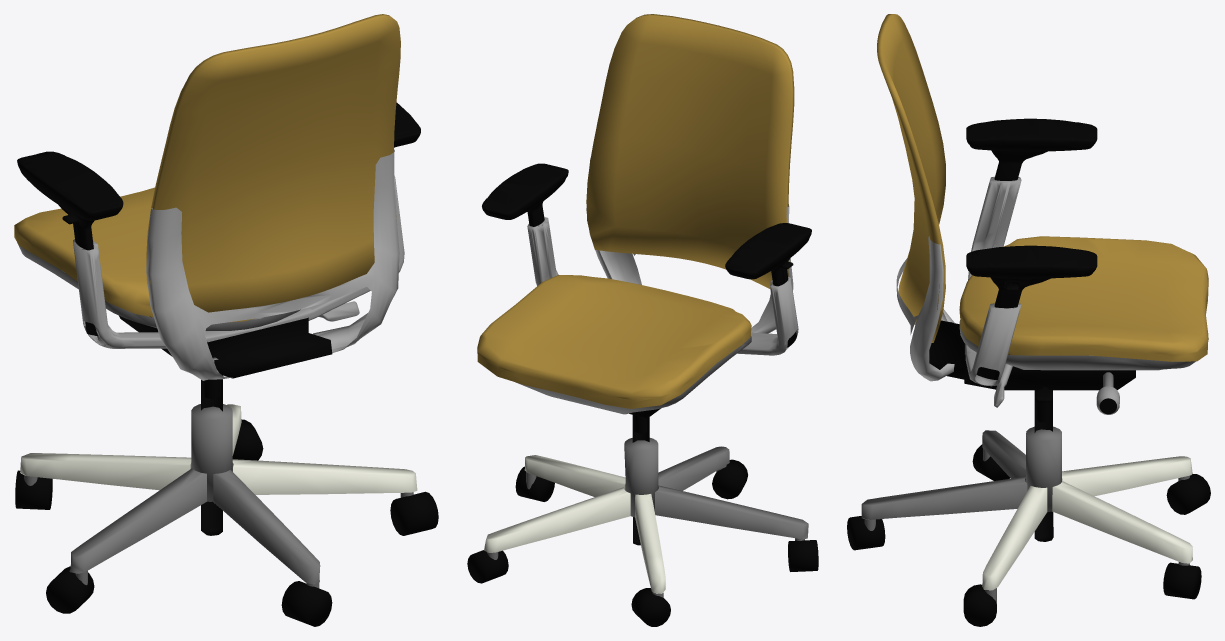
Rendered from chair_roller.fbx.
3 renders of one model, left to right at view 1: azimuth 30°, elevation 25°; view 2: azimuth 150°, elevation 25°; view 3: azimuth 270°, elevation 25°, orthographic. The views are drawn at different scales.
Visible parts, largest first — view 1: back, bottom, arms, seat, wheel, wheel.003, wheel.001, wheel.002, wheel.004; view 2: back, seat, bottom, arms, wheel.002, wheel.004, wheel, wheel.001, wheel.003; view 3: seat, bottom, arms, back, wheel.002, wheel.004, wheel.003, wheel, control, wheel.001.
Boxes of the visible parts, x1,y1,x2,y2 form: back: [146, 14, 400, 380]; bottom: [20, 315, 417, 584]; arms: [17, 102, 420, 348]; seat: [14, 187, 300, 330]; wheel: [281, 581, 332, 626]; wheel.003: [390, 491, 438, 535]; wheel.001: [46, 566, 94, 613]; wheel.002: [15, 470, 52, 509]; wheel.004: [232, 419, 263, 460]; back: [586, 14, 794, 333]; seat: [477, 275, 751, 414]; bottom: [484, 408, 808, 593]; arms: [482, 163, 811, 355]; wheel.002: [631, 588, 670, 626]; wheel.004: [467, 550, 508, 583]; wheel: [712, 459, 747, 499]; wheel.001: [788, 538, 818, 571]; wheel.003: [515, 466, 554, 501]; seat: [959, 236, 1208, 370]; bottom: [861, 320, 1192, 590]; arms: [965, 118, 1097, 386]; back: [877, 14, 954, 381]; wheel.002: [1166, 474, 1210, 514]; wheel.004: [1163, 562, 1201, 599]; wheel.003: [963, 584, 996, 626]; wheel: [847, 516, 885, 550]; control: [1096, 372, 1119, 414]; wheel.001: [972, 444, 1009, 480].
Bounding box in the file's own units: 2.92 × 4.31 × 2.83.
